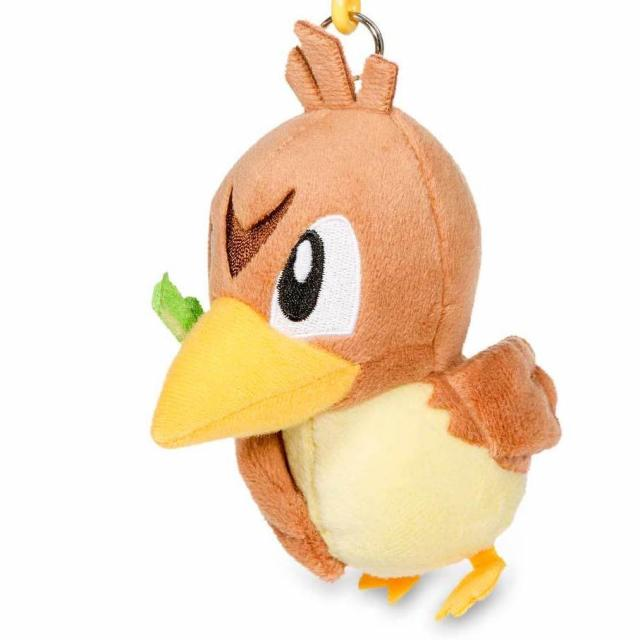Farfetchd: (153, 59, 497, 584)
